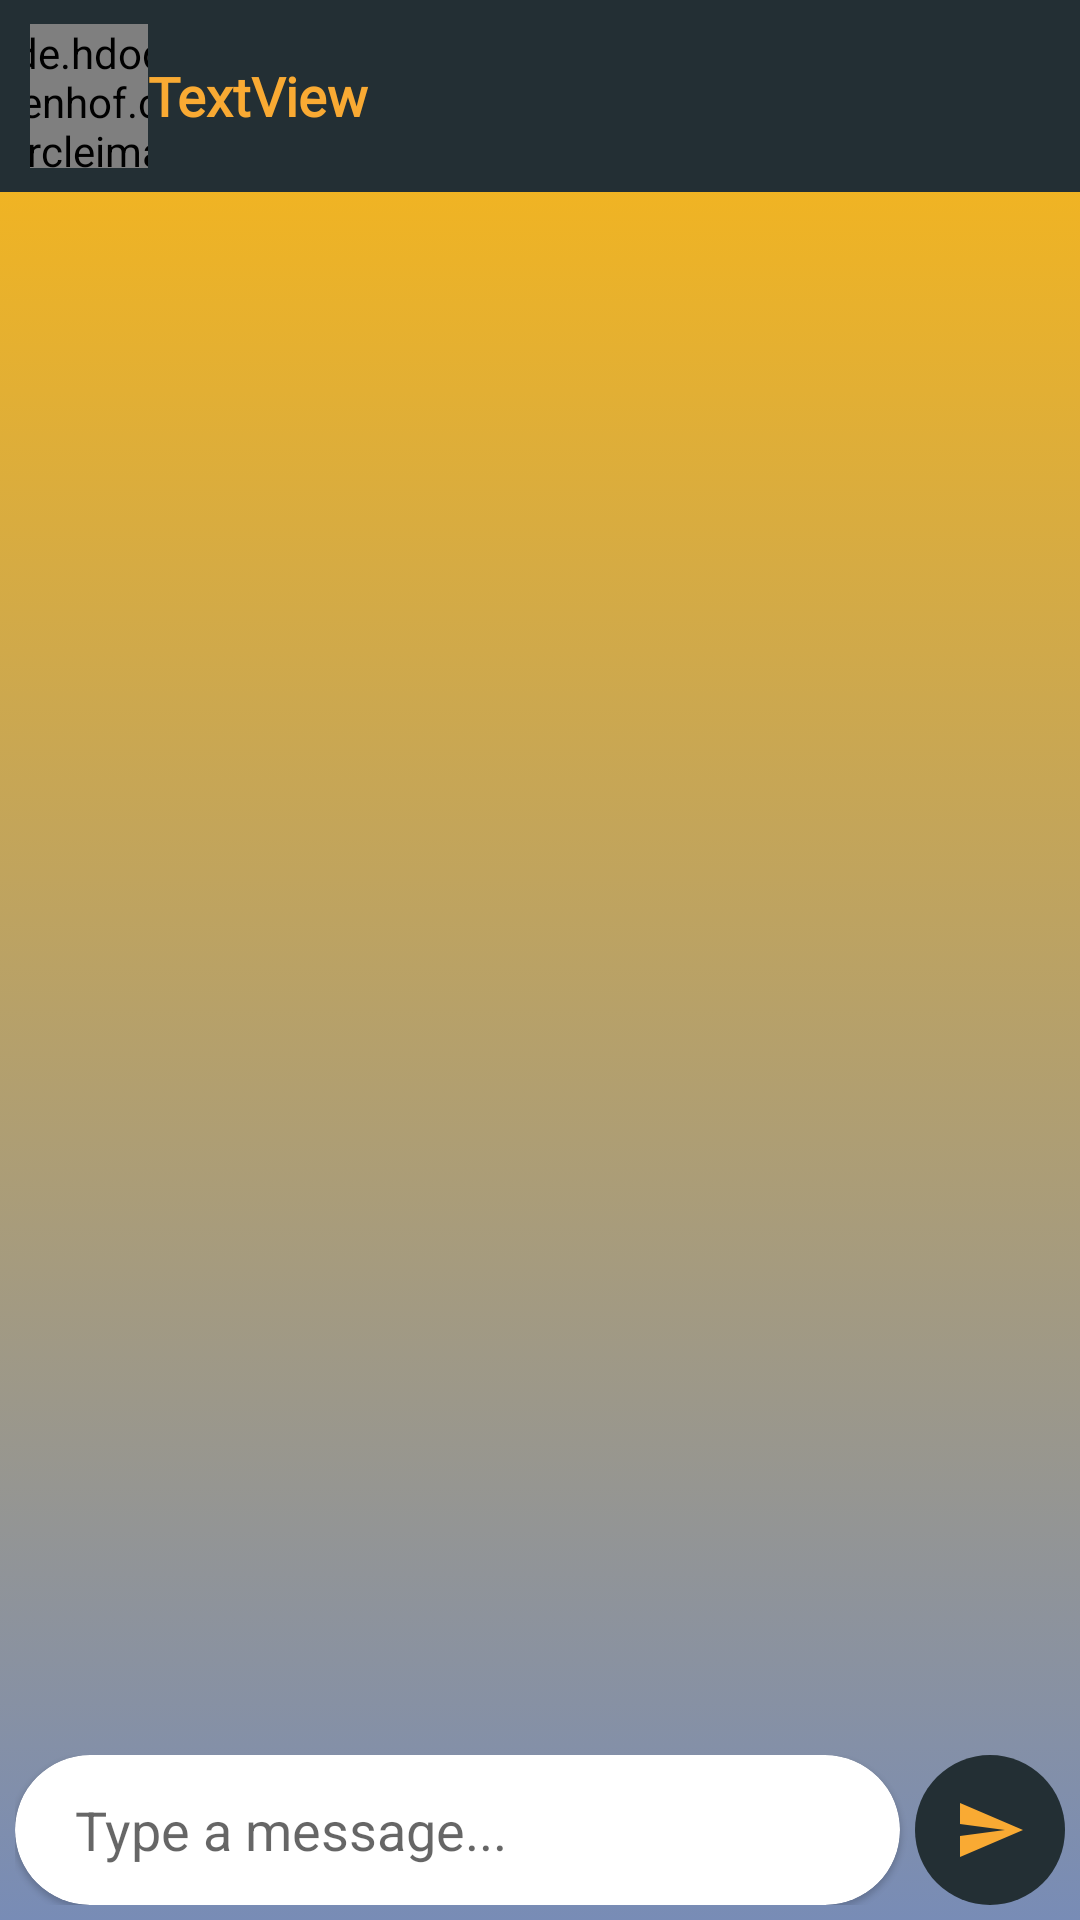

Icons on this 1080 x 1920 Android screen, each with the point to tap as (x=x, y=y):
send: (x=990, y=1830)
